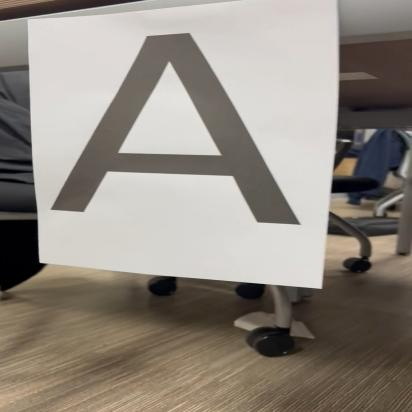seat: (38, 30, 312, 224)
